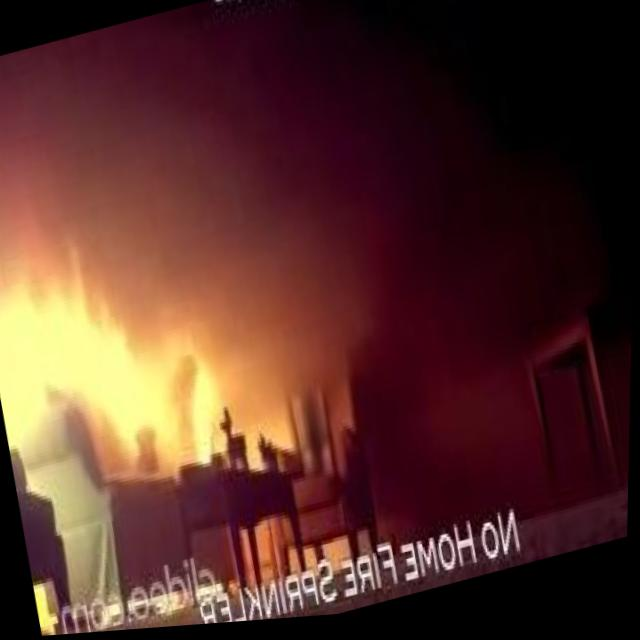fire: (0, 240, 174, 416), (87, 357, 194, 482), (179, 358, 237, 477)
